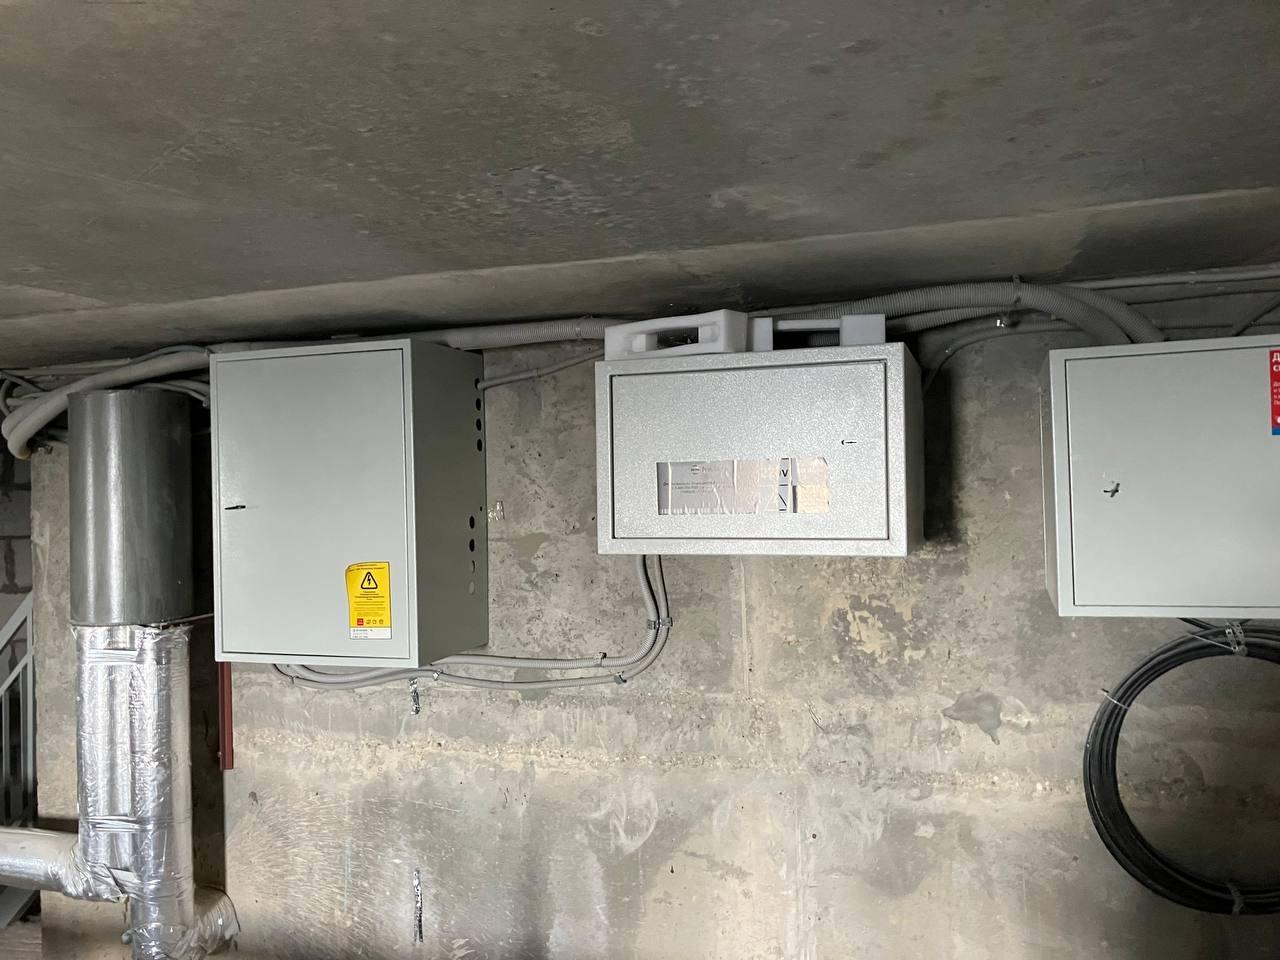shta-7m: (583, 335, 936, 567)
